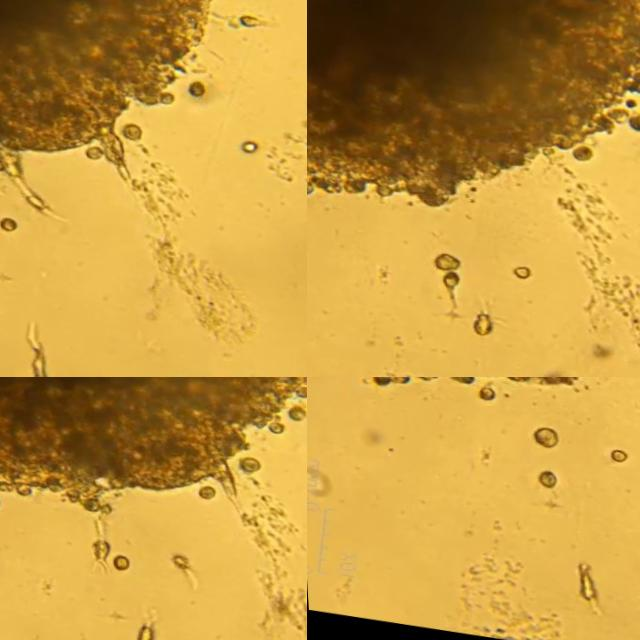cell: (571, 564, 589, 598), (436, 273, 453, 303), (529, 425, 552, 445), (23, 345, 37, 377), (118, 122, 138, 144), (87, 539, 106, 562), (237, 457, 259, 476), (430, 254, 455, 270), (236, 17, 268, 29), (466, 314, 483, 335), (532, 469, 551, 487), (568, 145, 590, 160), (185, 81, 201, 100), (284, 407, 303, 422), (166, 553, 182, 570), (81, 147, 96, 163), (132, 625, 148, 640), (475, 386, 490, 402), (236, 141, 253, 155), (194, 486, 211, 500), (265, 422, 281, 436), (108, 555, 124, 569), (0, 217, 13, 232), (509, 266, 524, 279), (605, 449, 620, 460)
